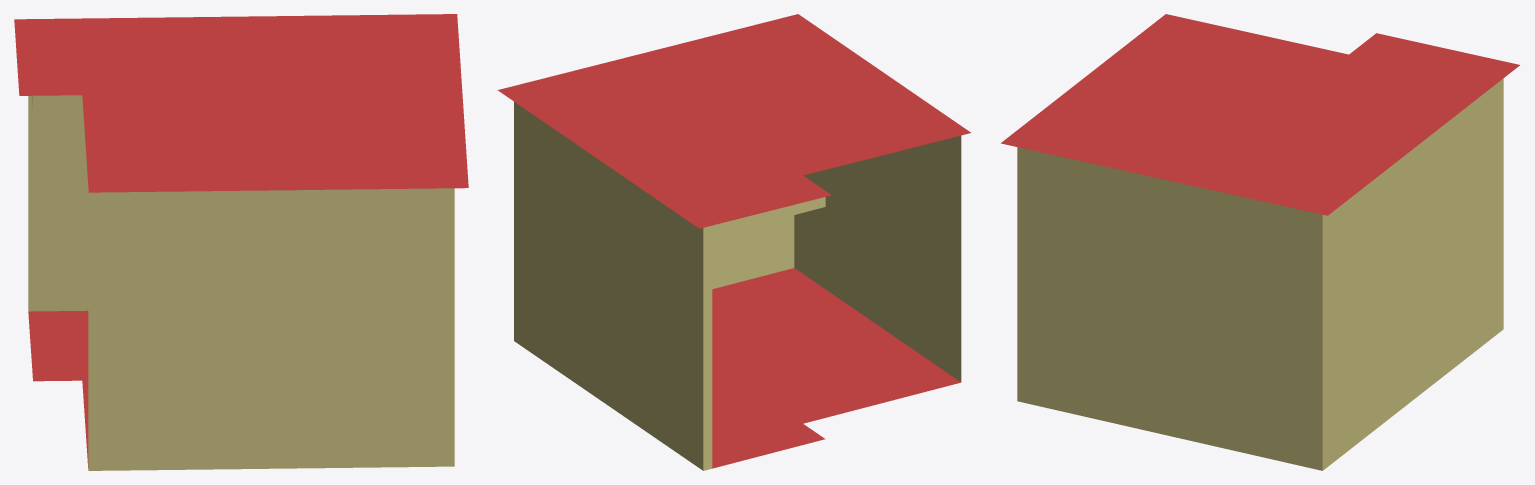
3 views of the same model, side by side, from view 1: azimuth 30°, elevation 25°; view 2: azimuth 150°, elevation 25°; view 3: azimuth 270°, elevation 25° (orthographic). The views are drawn at different scales.
Bounding box in the file's own units: 9.6 × 10.34 × 5.76.
